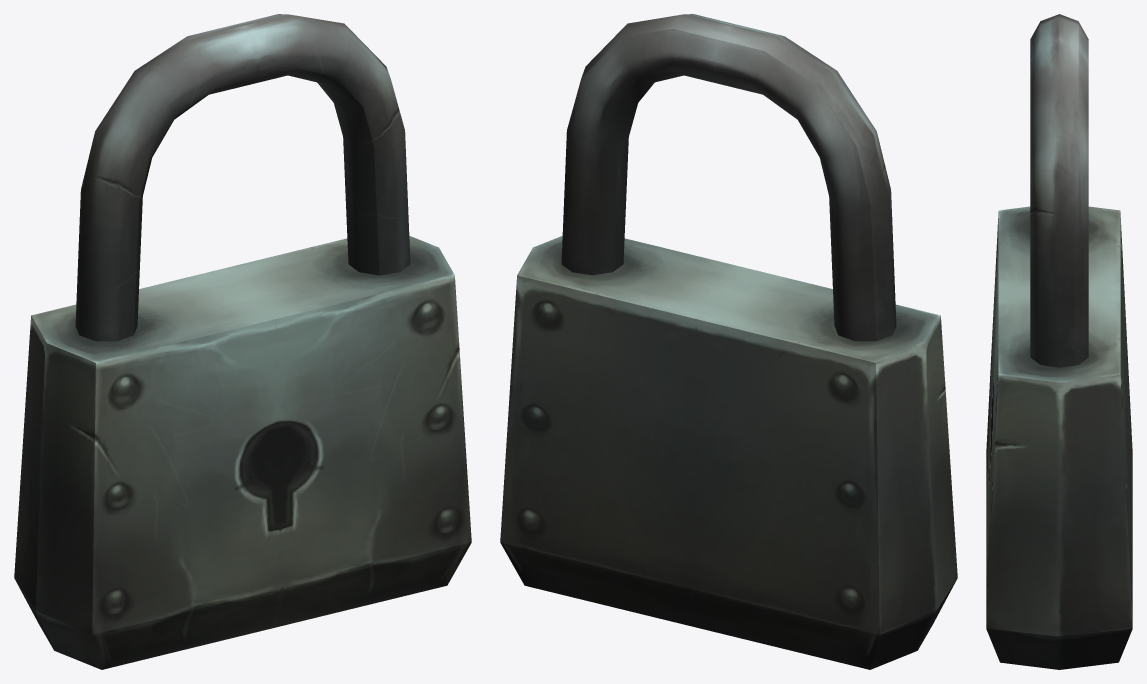
The model's file is 27_pad lock.FBX.
3 views of the same model, side by side, from view 1: azimuth 30°, elevation 25°; view 2: azimuth 150°, elevation 25°; view 3: azimuth 270°, elevation 25° (orthographic). The views are drawn at different scales.
Parts seen in each view (by area): view 1: 27_pad lock; view 2: 27_pad lock; view 3: 27_pad lock.
Part boxes in pixels (bbox=[...]): 27_pad lock: bbox=[14, 14, 471, 669]; 27_pad lock: bbox=[500, 14, 957, 669]; 27_pad lock: bbox=[986, 14, 1132, 669].
Bounding box in the file's own units: 36.99 × 49.33 × 12.05.
